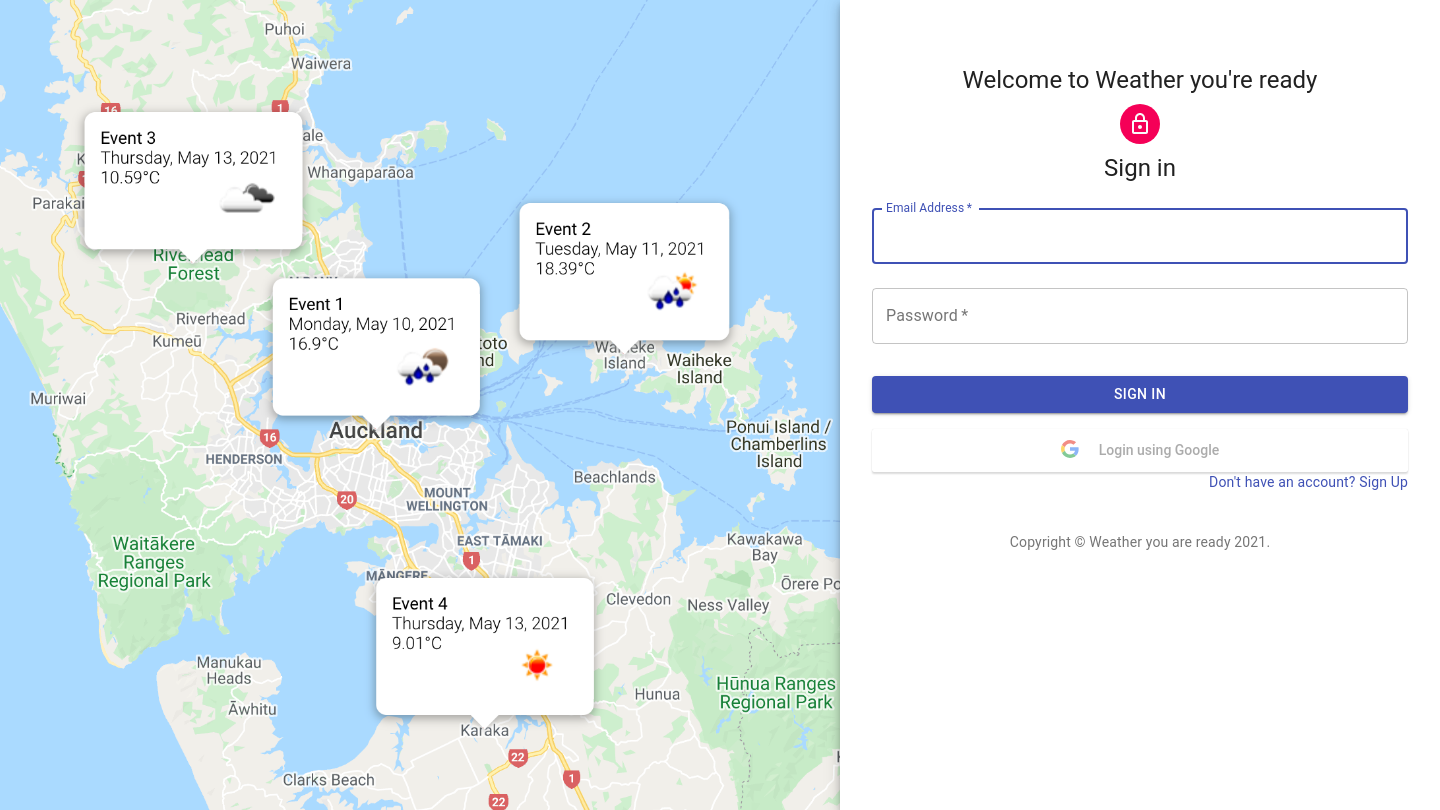
Test: errorMessage › error message shown when password and email do not match
Expected: the password field with test id "password-login" is empty, [872, 288, 1408, 344]
fill the form
Type "test@gmail.com" into the field with test id "email-login" at (1140, 236), box [872, 208, 1408, 264]
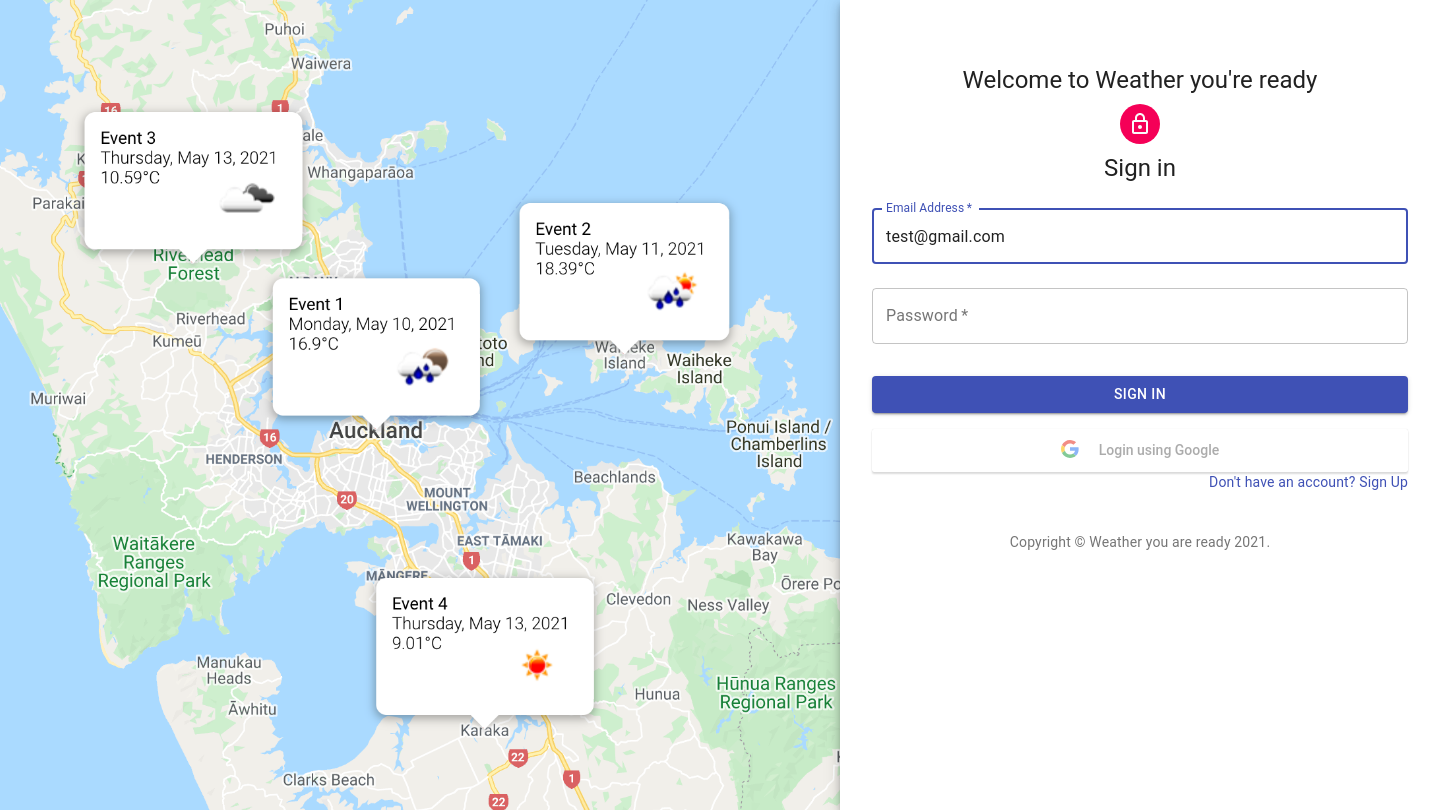
Type "wrongPassword" into the password field with test id "password-login" at (1140, 316), box [872, 288, 1408, 344]
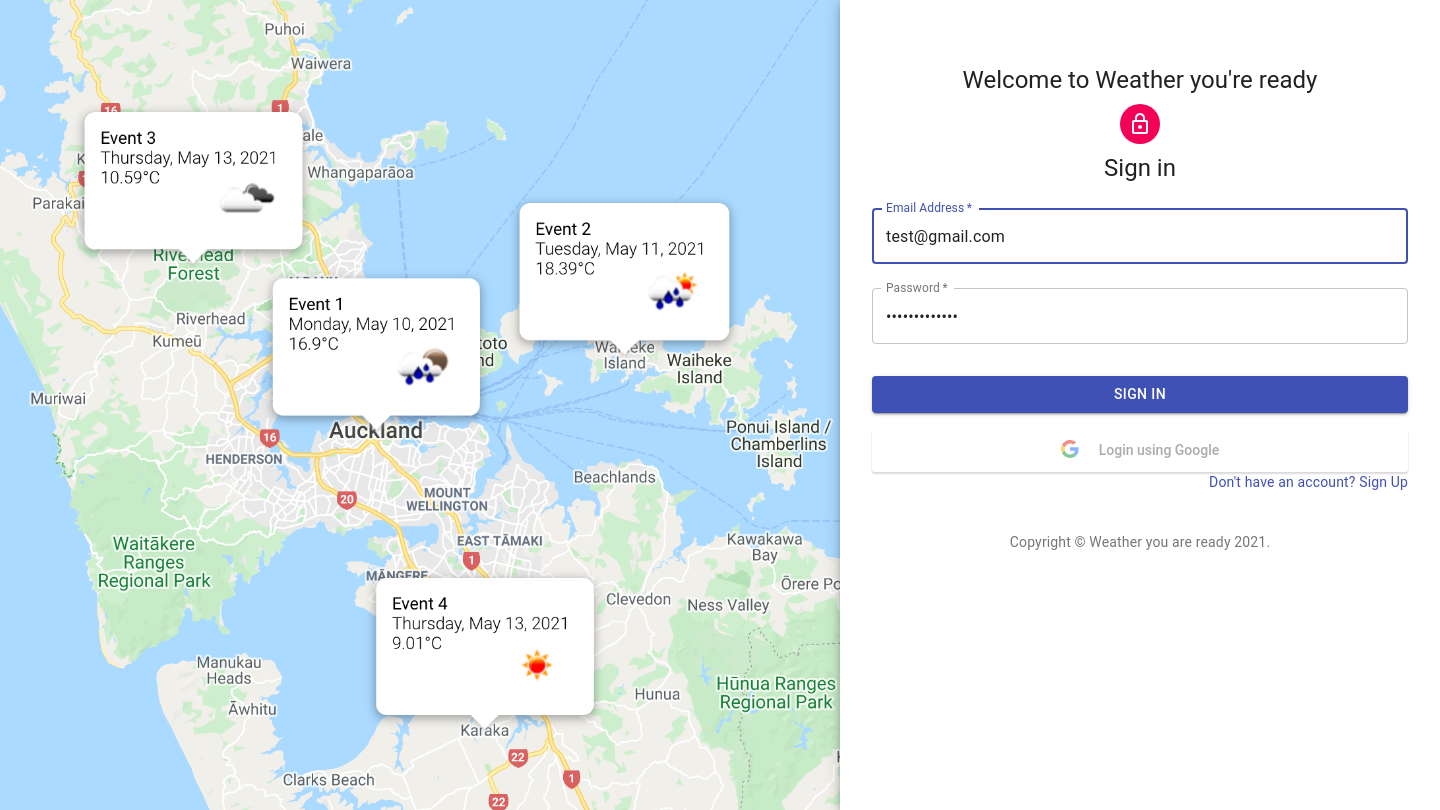
submit the form
Click the button with test id "submit-login" at (1140, 394), box [872, 376, 1408, 412]
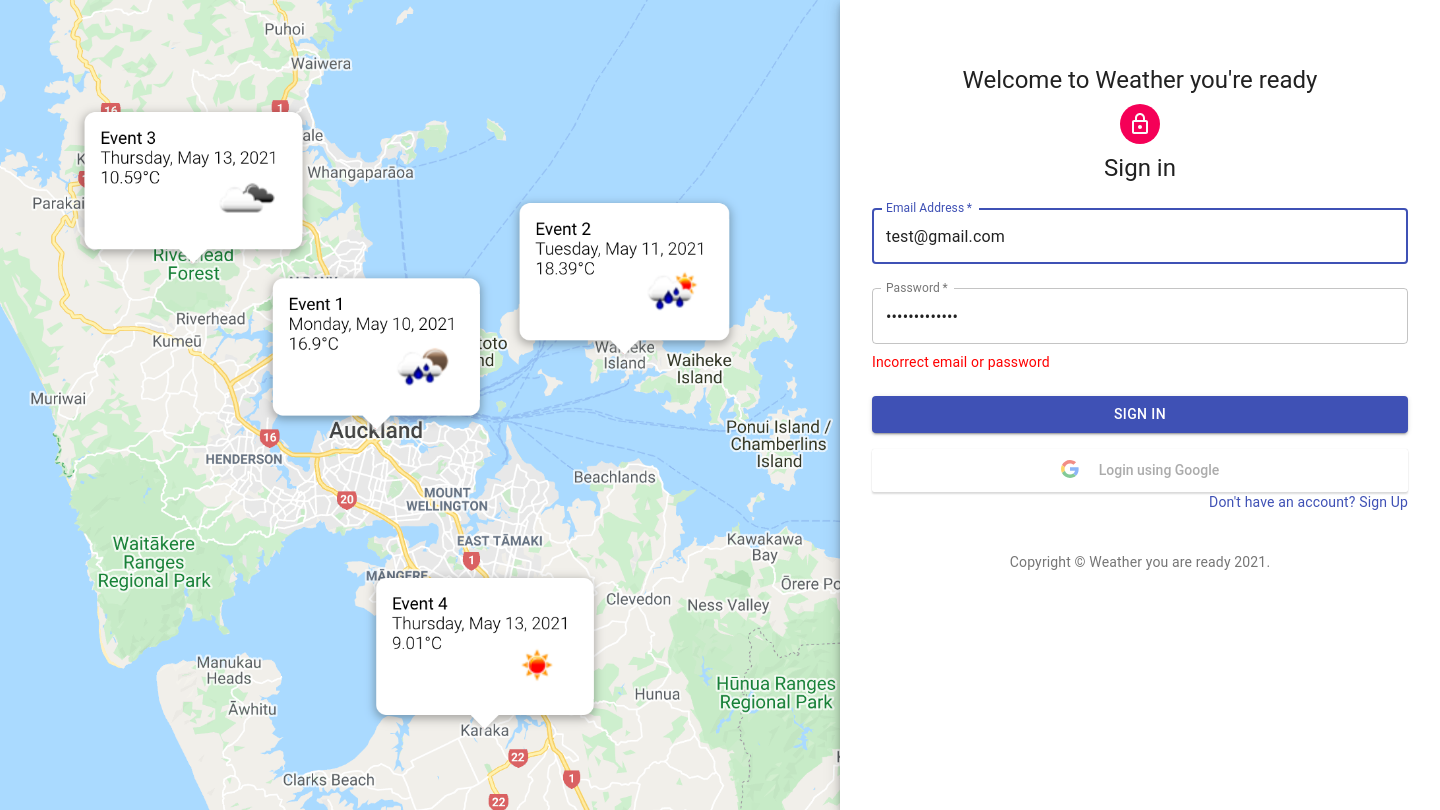
Expected: the text "Incorrect email or password" is shown, [872, 354, 1050, 370]
